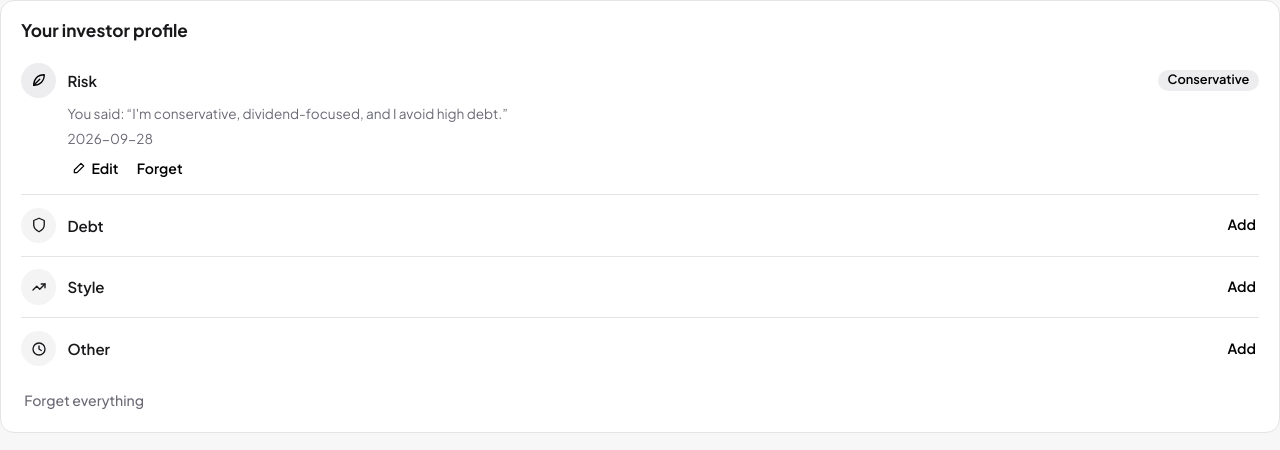
Test case: the memory panel › forgets a field
Click the button with aria-label "Forget Risk" at [160, 168], box left=134, top=156, right=186, bottom=181
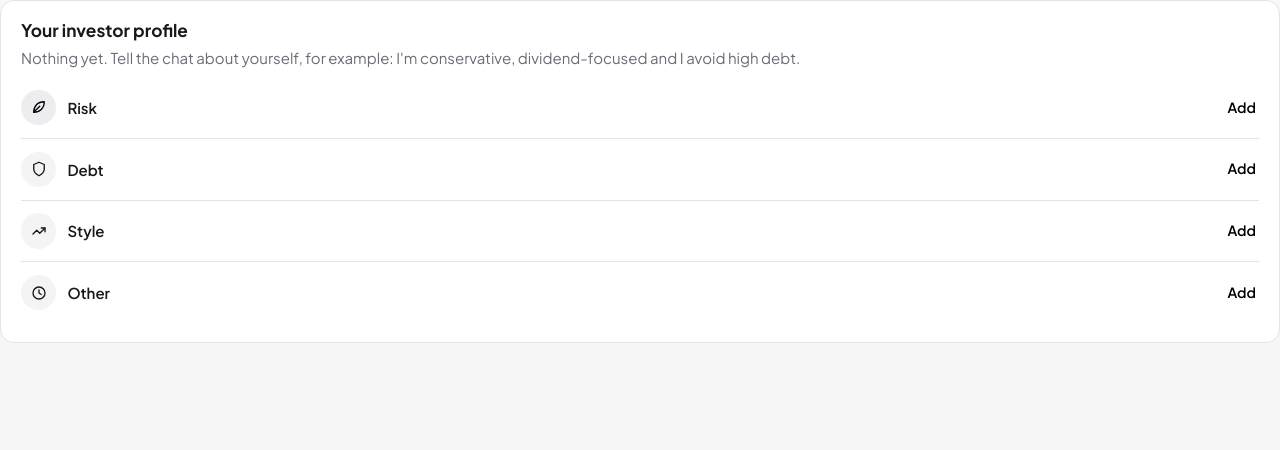
Check: the button with aria-label "Add Risk" is shown, box left=1224, top=95, right=1259, bottom=120
